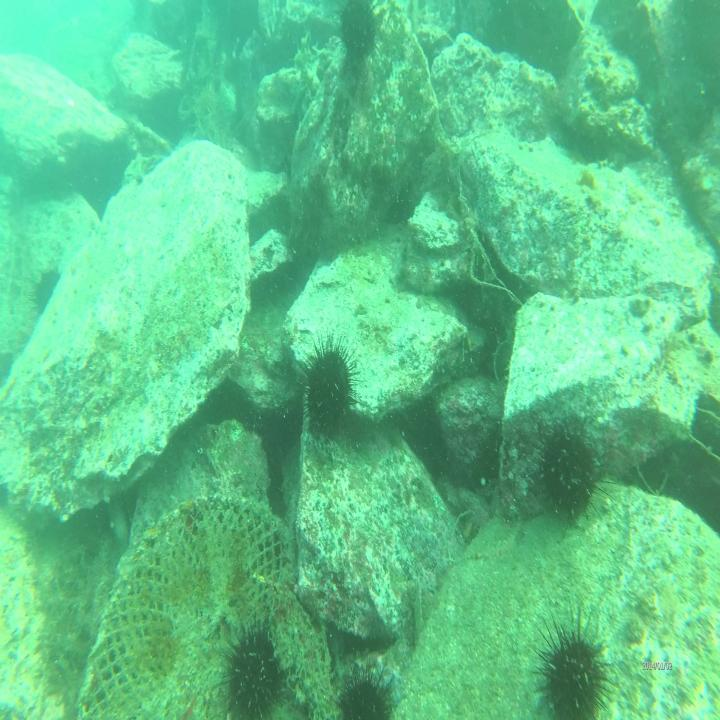echinus: (527, 606, 626, 720), (530, 416, 609, 531), (217, 618, 292, 720), (298, 334, 360, 449), (334, 659, 398, 720), (336, 3, 380, 61), (34, 267, 63, 314)
